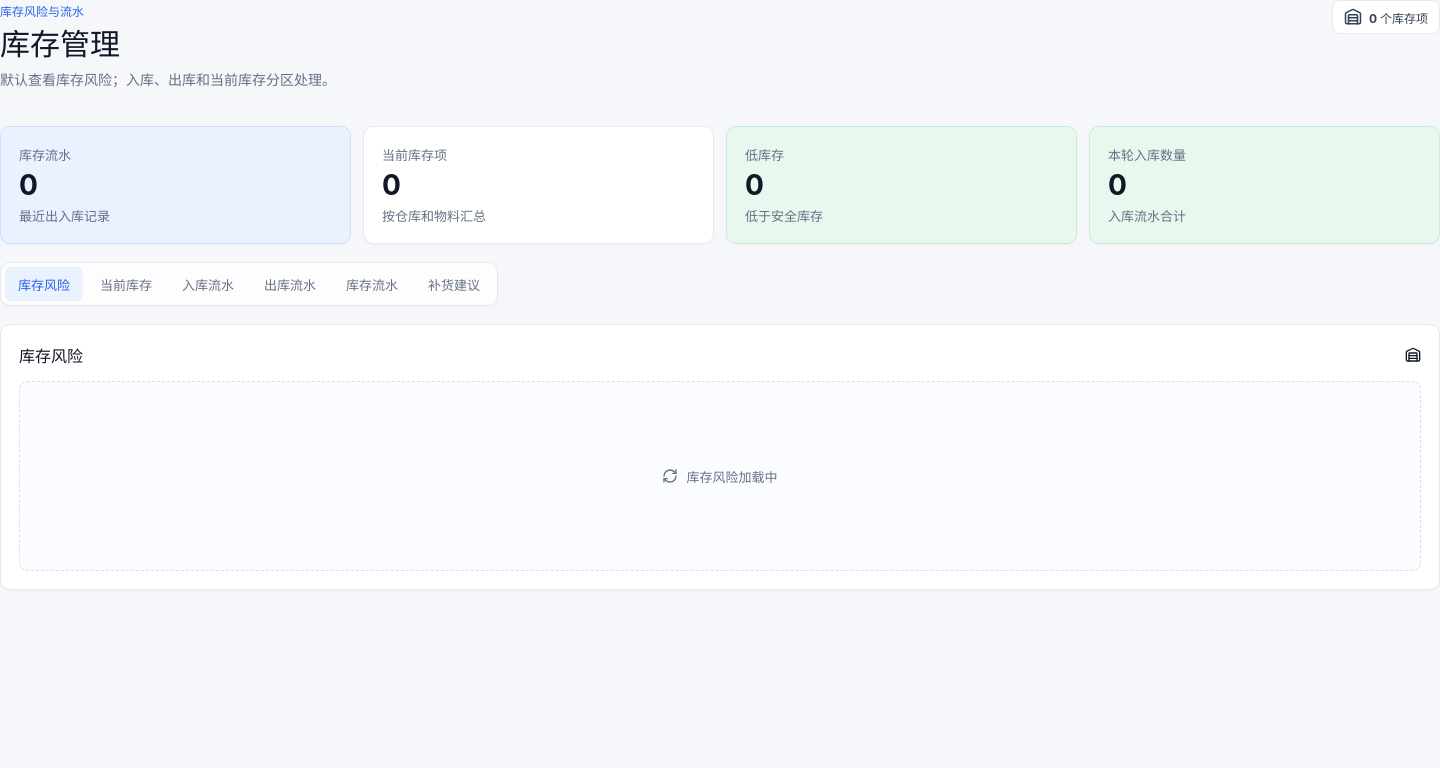
Test: 采购/库存 行内校验 › 库存数量为小数时显示整数校验错误
Click the tab "入库流水" at (208, 284), box [169,268,247,302]
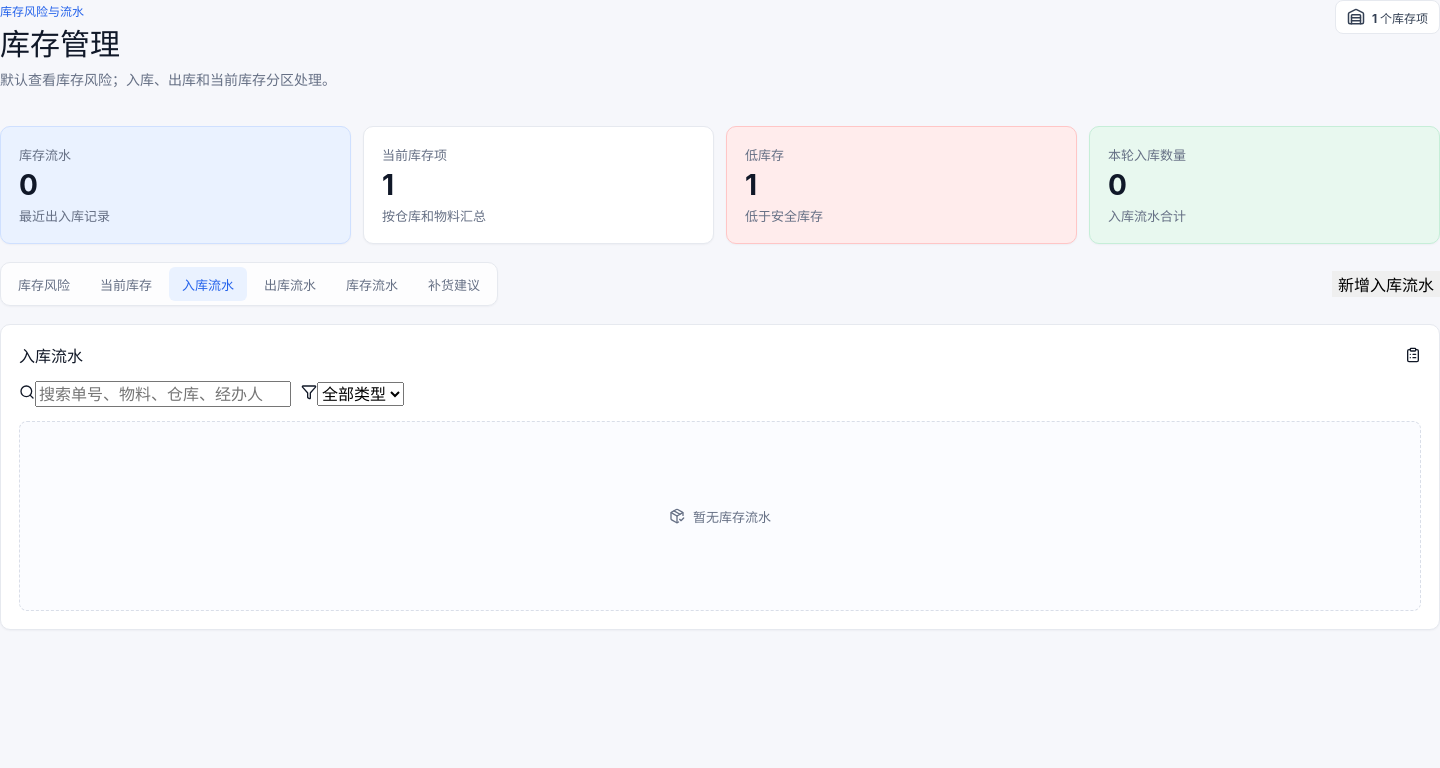
Click the button "新增入库流水" at (1386, 284), box [1332,272,1439,298]
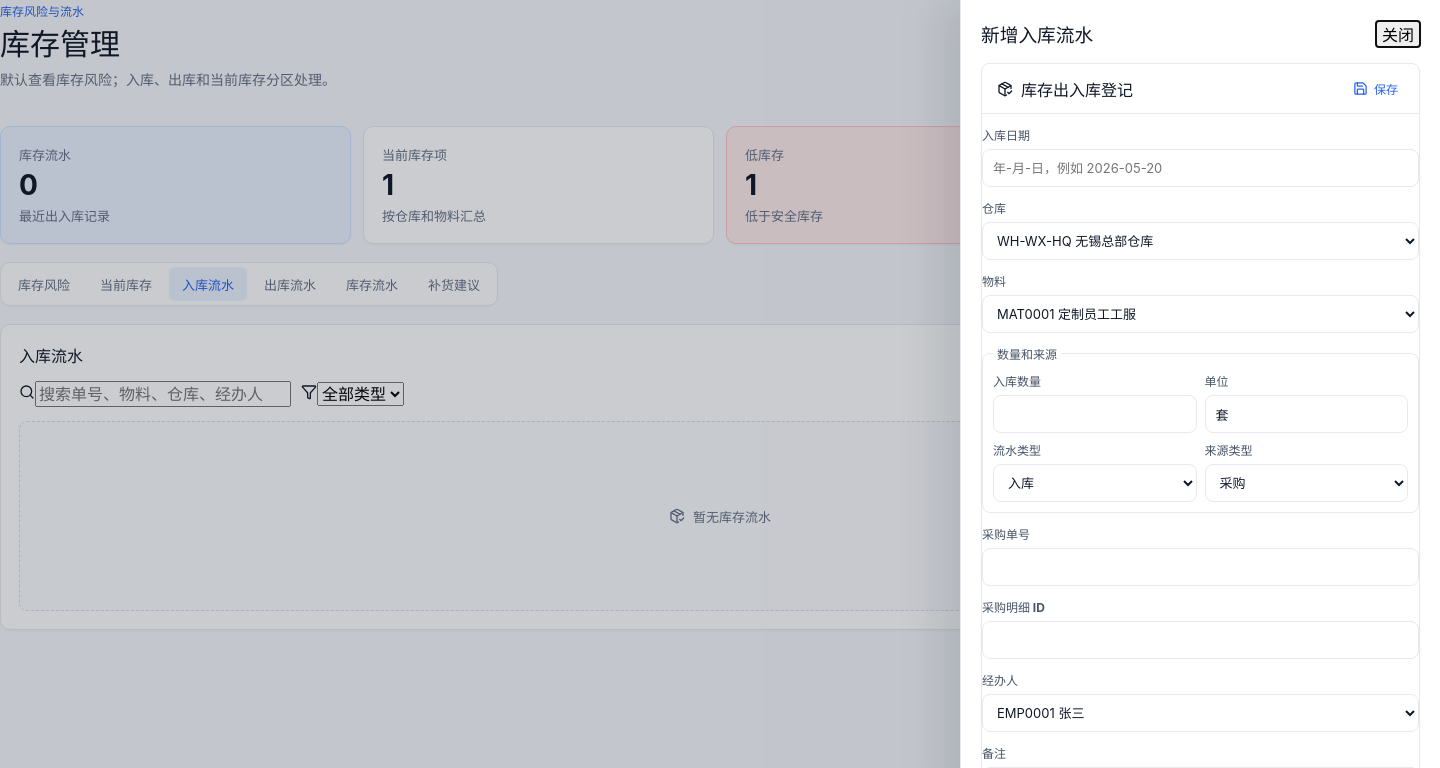
Type "2026-05-11" into the field labelled "入库日期" at (1200, 168), box [982,149,1419,187]
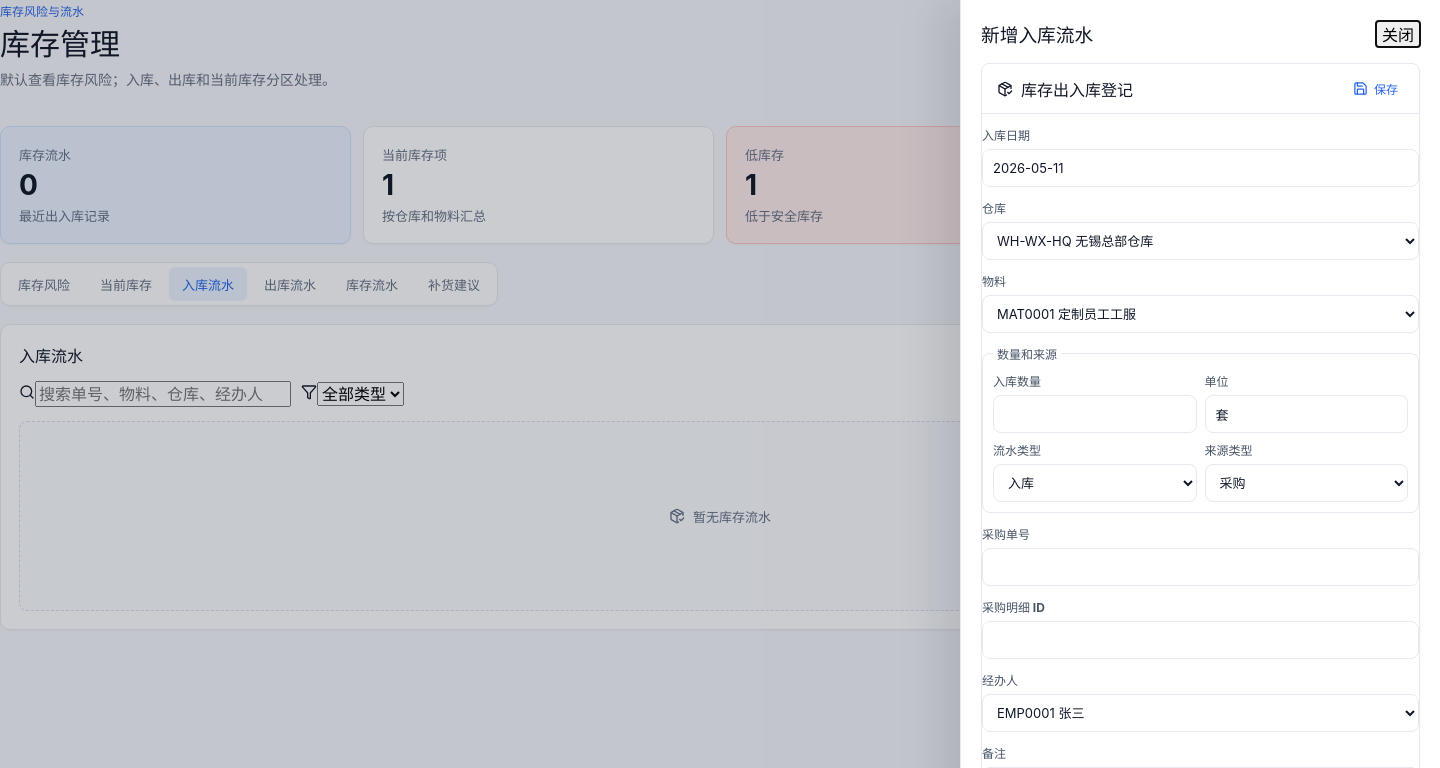
Select "WH-WX-HQ 无锡总部仓库" in the dropdown labelled "仓库" at (1200, 241), box [982,222,1419,260]
Select "MAT0001 定制员工工服" in the dropdown labelled "物料" at (1200, 314), box [982,295,1419,333]
Type "0.5" into the number field labelled "入库数量" at (1095, 414), box [993,395,1196,433]
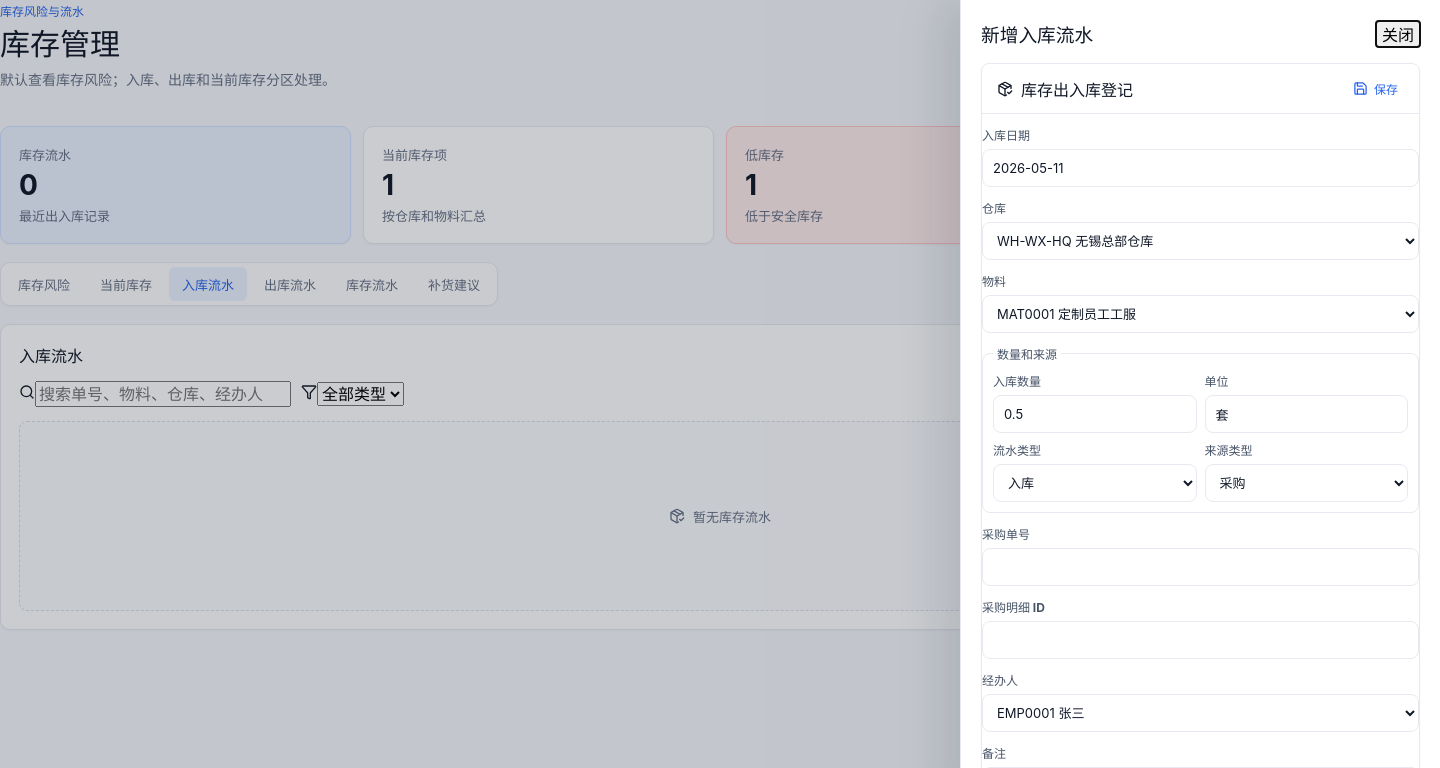
Click the button "保存" at (1376, 88), box [1347,79,1404,98]
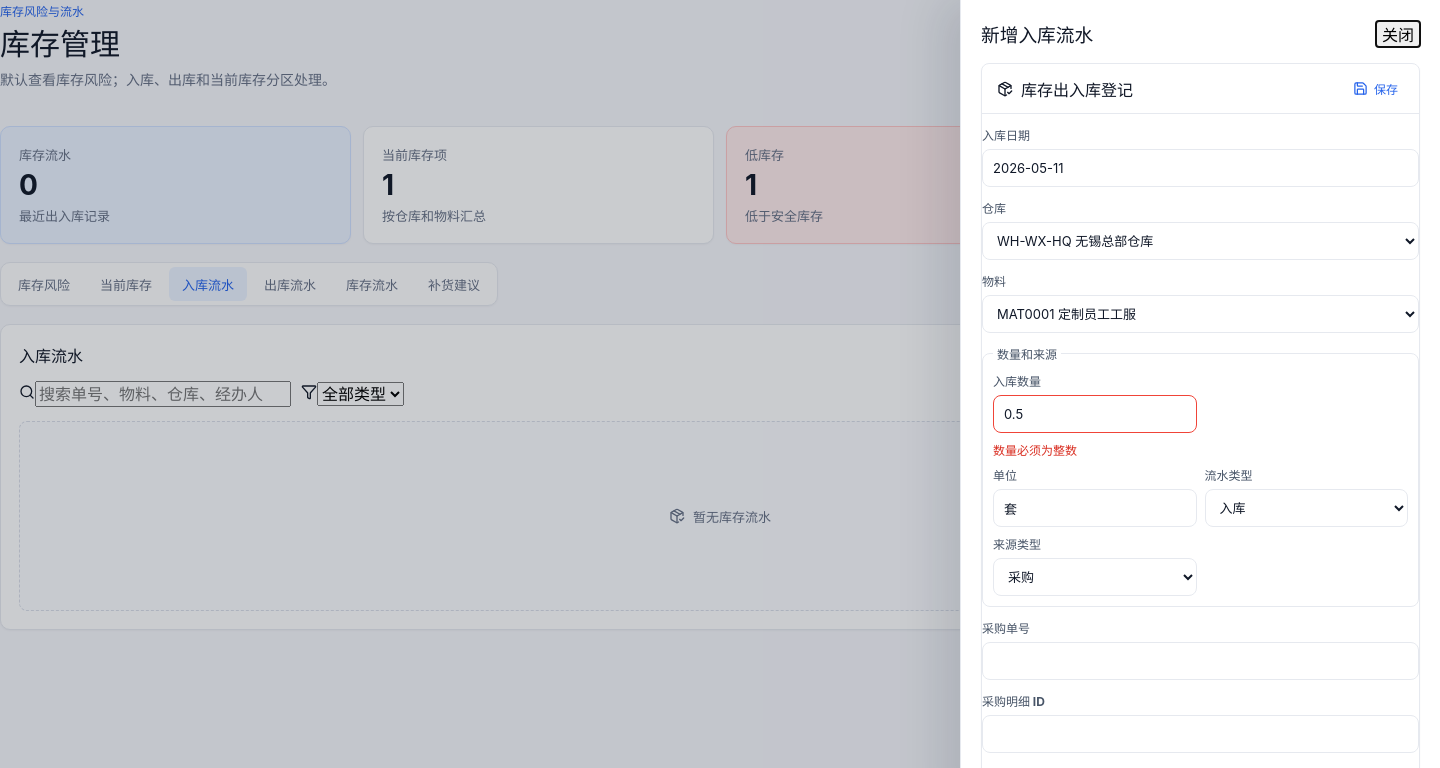
Now the text "数量必须为整数" is shown, box [993,443,1077,458]
